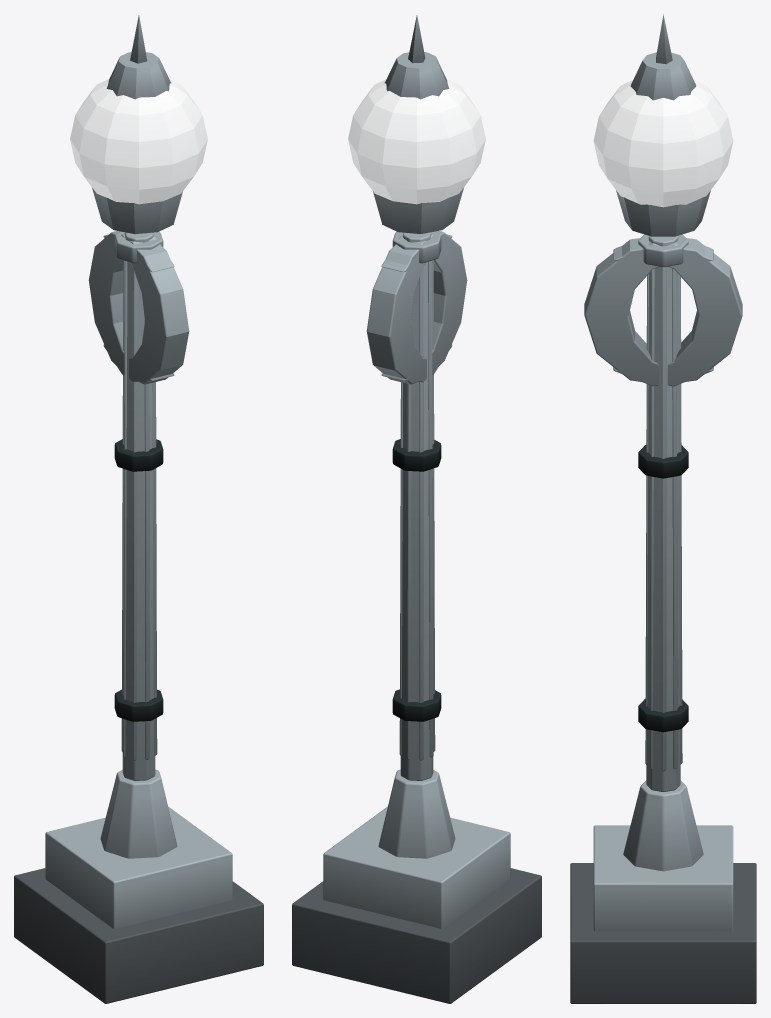
The model's file is moon_lamp.glb.
The picture shows the model from 3 angles, left to right: view 1: azimuth 30°, elevation 25°; view 2: azimuth 150°, elevation 25°; view 3: azimuth 270°, elevation 25°; orthographic projection.
Visible parts, largest first — view 1: moon_lamp; view 2: moon_lamp; view 3: moon_lamp.
Part boxes in pixels (x1,y1,x2,y2): moon_lamp: (14, 15, 263, 1003); moon_lamp: (292, 15, 541, 1003); moon_lamp: (570, 14, 756, 1003).
Bounding box in the file's own units: 0.8 × 4.5 × 0.8.
Materials: 2 (2 with a texture image).
